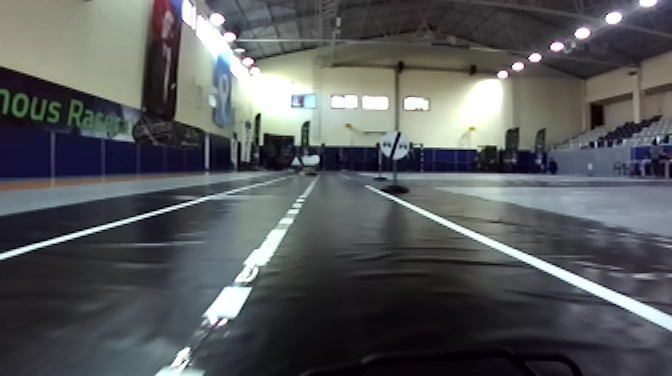sollama_serbest: (379, 130, 410, 161)
